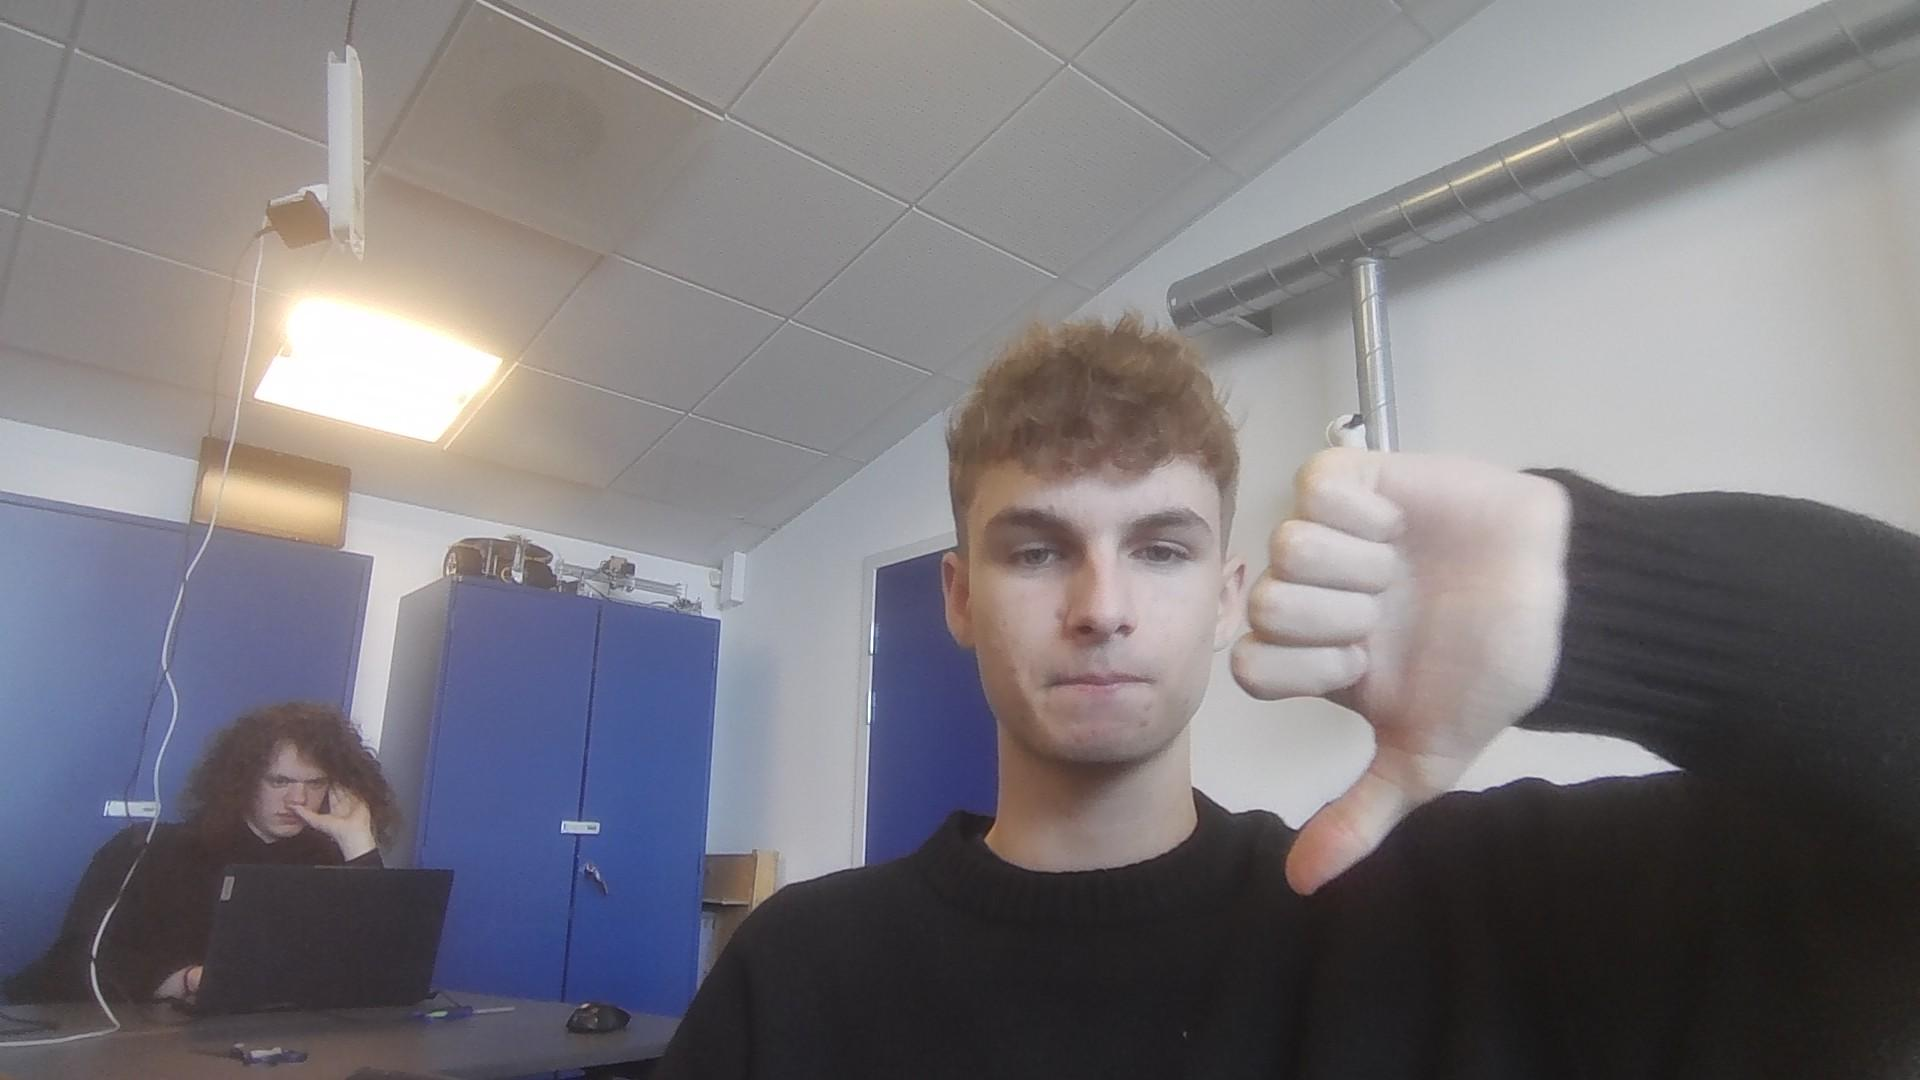thumbs down: (1236, 440, 1573, 893)
